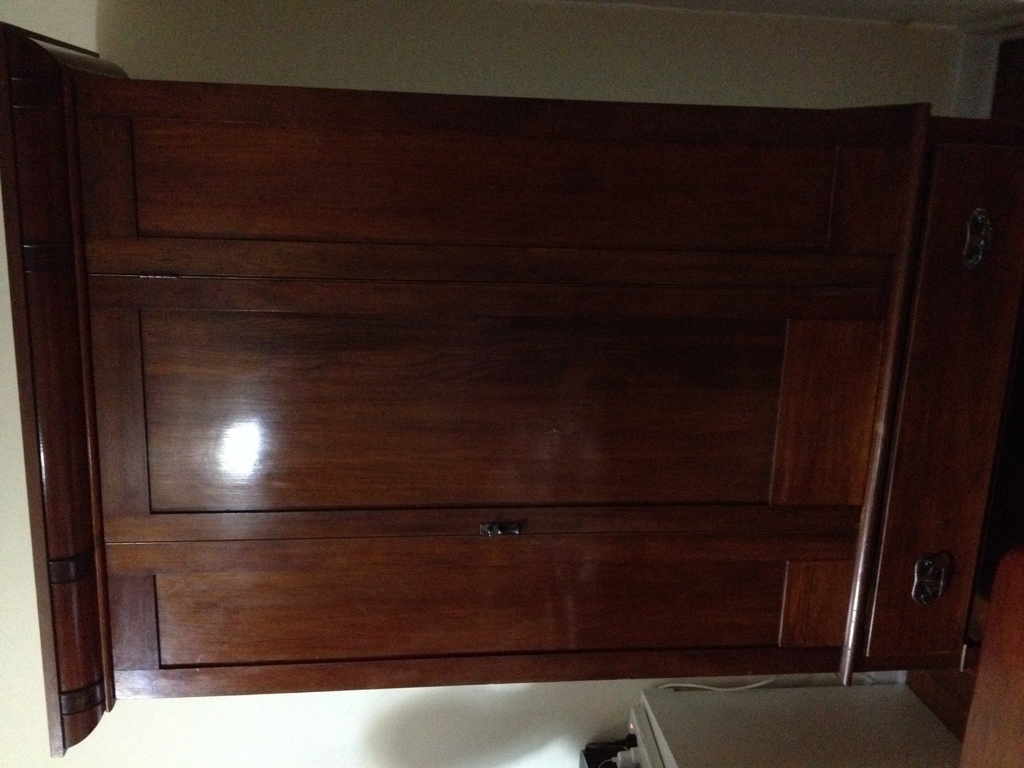cabinet door: (97, 285, 871, 510), (111, 108, 872, 247), (127, 557, 849, 677)
